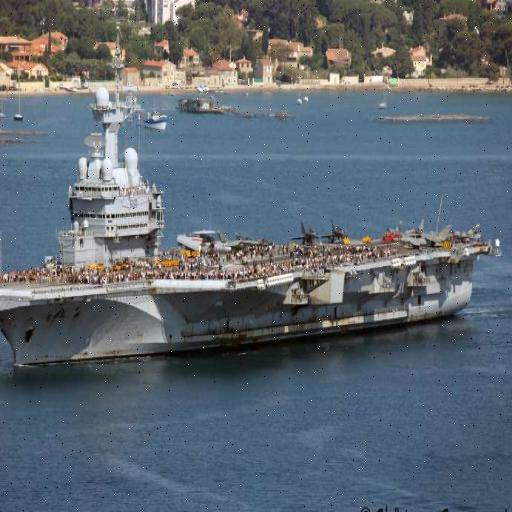Portanaves: (1, 19, 505, 377)
